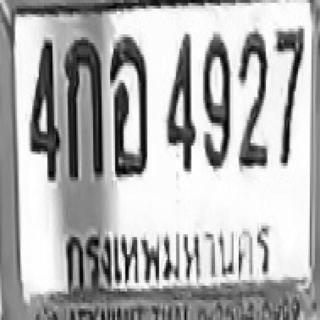A01: (64, 37, 102, 177)
A43: (109, 34, 146, 174)
N02: (237, 28, 268, 168)
N04: (29, 36, 59, 179), (164, 33, 195, 170)
N07: (274, 26, 305, 166)
N09: (201, 31, 230, 169)
P04: (63, 214, 281, 293)
